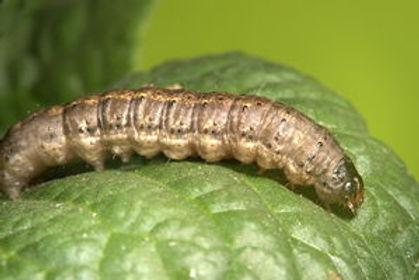caterpillars: (0, 42, 410, 247)
